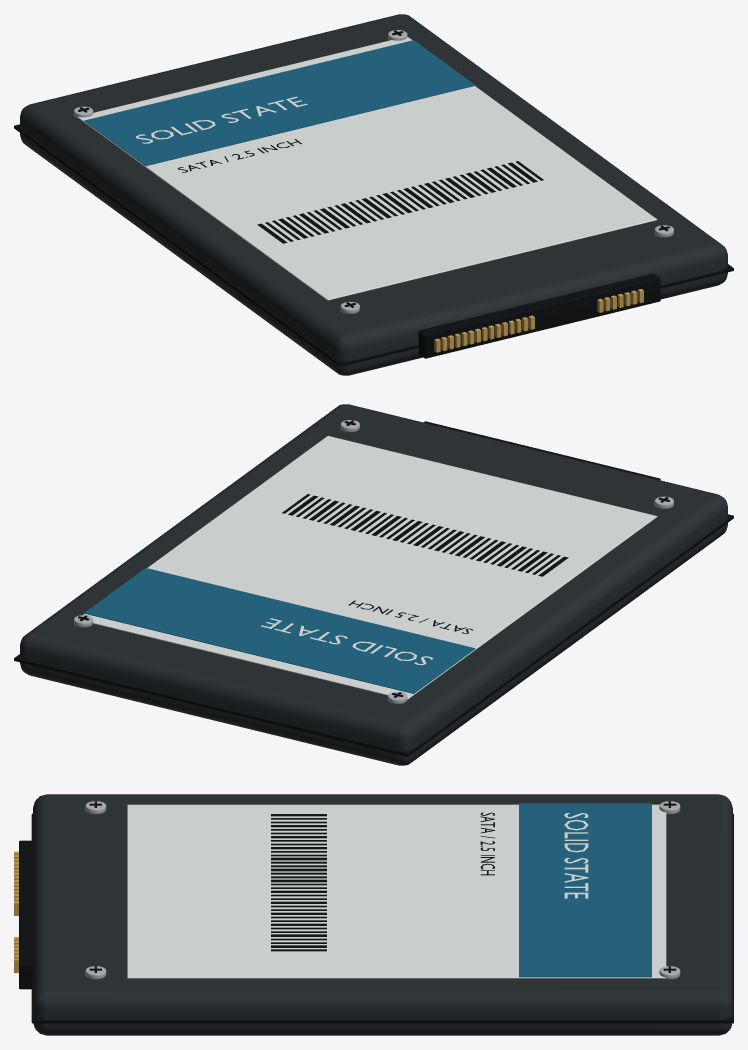
File: sata-ssd.glb
3 renders of one model, top to bottom at view 1: azimuth 30°, elevation 25°; view 2: azimuth 150°, elevation 25°; view 3: azimuth 270°, elevation 25°, orthographic. The views are drawn at different scales.
Parts seen in each view (by area): view 1: SATA-SSD / Printed warm white, SSD enclosure, Blue label stripe, SATA-SSD / Dark cavity interior, SATA-SSD / Gold plated connector contacts, SATA-SSD / Nickel plated fasteners; view 2: SSD enclosure, SATA-SSD / Printed warm white, Blue label stripe, SATA-SSD / Dark cavity interior, SATA-SSD / Nickel plated fasteners; view 3: SSD enclosure, SATA-SSD / Printed warm white, Blue label stripe, SATA-SSD / Dark cavity interior, SATA-SSD / Nickel plated fasteners, SATA-SSD / Gold plated connector contacts.
Part boxes in pixels (x1,y1,x2,y2): SATA-SSD / Printed warm white: (77,36,657,300); SSD enclosure: (20,14,727,375); Blue label stripe: (84,40,475,165); SATA-SSD / Dark cavity interior: (14,30,733,366); SATA-SSD / Gold plated connector contacts: (434,289,643,352); SATA-SSD / Nickel plated fasteners: (74,30,673,313); SSD enclosure: (20,404,727,765); SATA-SSD / Printed warm white: (83,436,657,699); Blue label stripe: (84,568,475,693); SATA-SSD / Dark cavity interior: (14,420,733,756); SATA-SSD / Nickel plated fasteners: (74,420,673,703); SSD enclosure: (33,794,732,1035); SATA-SSD / Printed warm white: (127,804,666,978); Blue label stripe: (519,803,651,977); SATA-SSD / Dark cavity interior: (19,801,733,1023); SATA-SSD / Nickel plated fasteners: (85,801,680,979); SATA-SSD / Gold plated connector contacts: (14,851,18,972).
Bounding box in the file's own units: 0.0702 × 0.008 × 0.1031.
